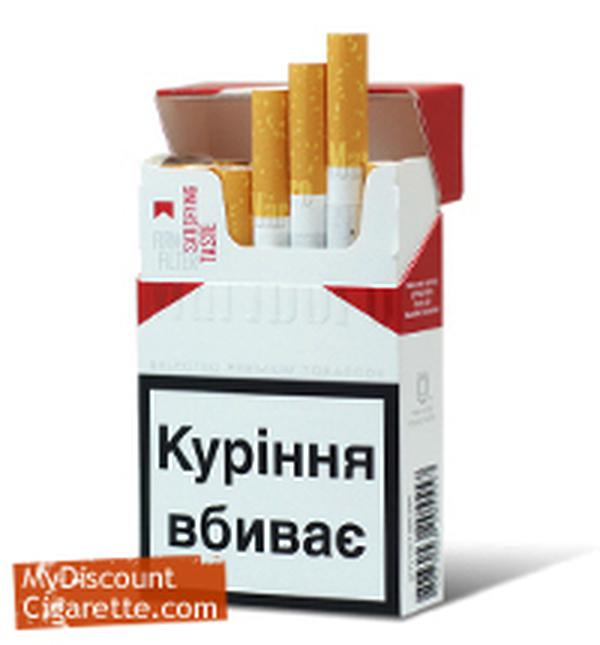marlboro_red: (142, 198, 404, 611)
